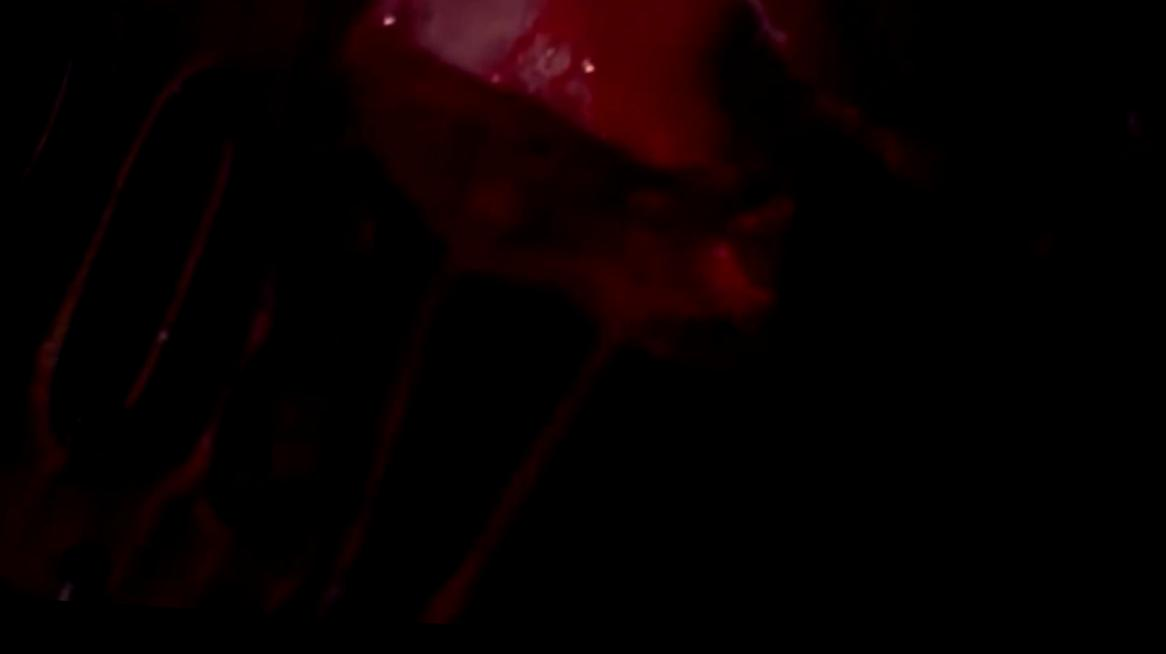Fire: (343, 0, 952, 358)
